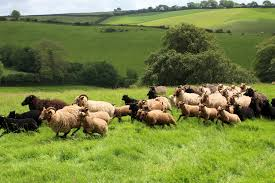sheep: (41, 105, 84, 141), (16, 94, 72, 117), (74, 95, 116, 120), (243, 89, 275, 116), (78, 110, 110, 135), (1, 116, 37, 137), (1, 108, 44, 125), (138, 95, 176, 114), (143, 110, 175, 131), (207, 89, 232, 113), (78, 108, 111, 125), (173, 102, 202, 120), (221, 82, 244, 103), (109, 102, 134, 121), (215, 108, 240, 127), (129, 104, 151, 124), (178, 89, 203, 106), (196, 104, 218, 123), (145, 85, 161, 100), (122, 94, 139, 107)
